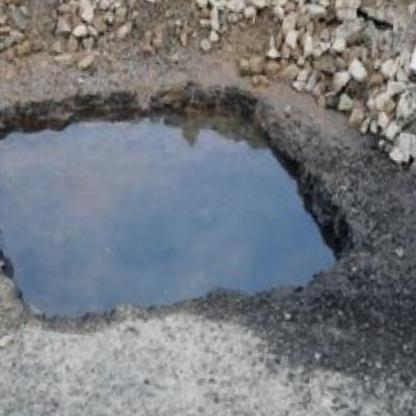pothole: (0, 45, 375, 358)
